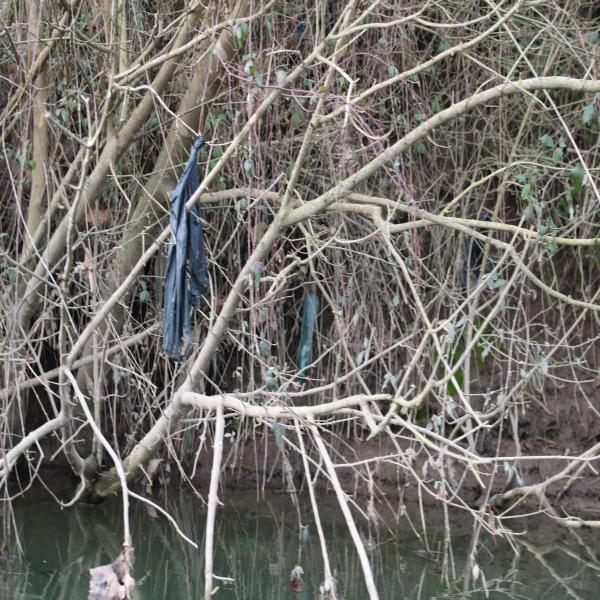bottles: (296, 290, 319, 378)
fragments: (163, 135, 210, 360)
